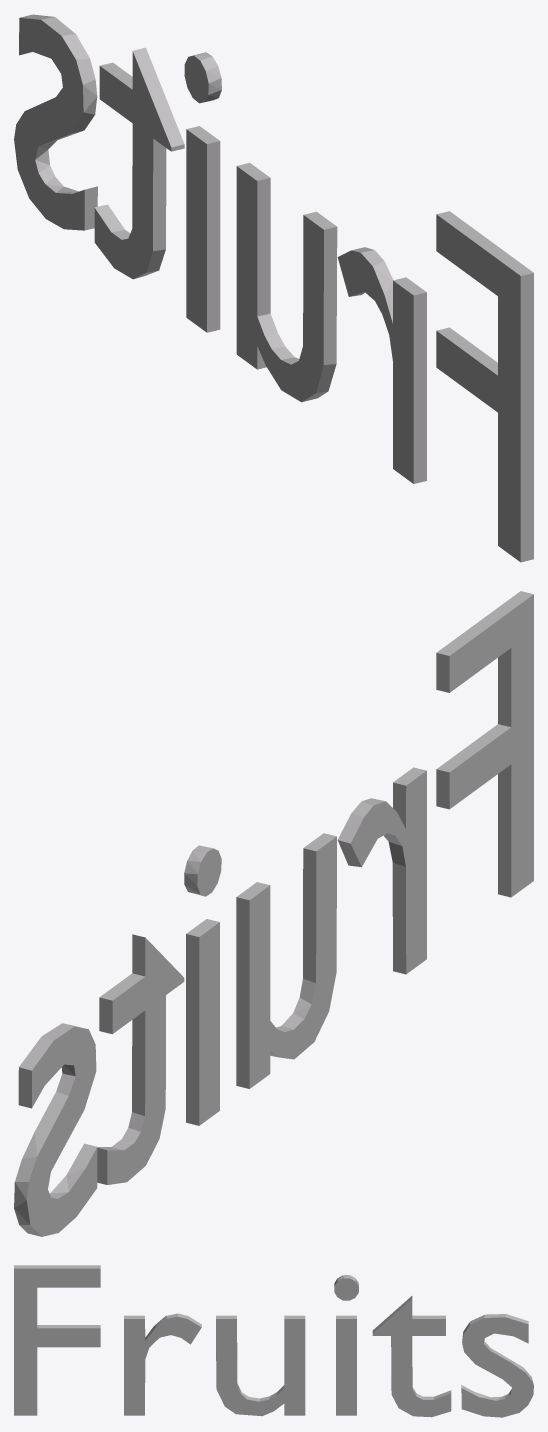
File: SM_fruitDecoration_03.glb
3 renders of one model, top to bottom at view 1: azimuth 30°, elevation 25°; view 2: azimuth 150°, elevation 25°; view 3: azimuth 270°, elevation 25°, orthographic. The views are drawn at different scales.
Visible parts, largest first — view 1: SM_fruitDecoration_03; view 2: SM_fruitDecoration_03; view 3: SM_fruitDecoration_03.
Boxes of the visible parts, x1,y1,x2,y2 form: SM_fruitDecoration_03: [14, 14, 533, 562]; SM_fruitDecoration_03: [14, 591, 533, 1236]; SM_fruitDecoration_03: [14, 1265, 533, 1417].
Size of the model in its own units: 0.0146 by 0.3069 by 0.9703.
Materials: 1 (1 with a texture image).
